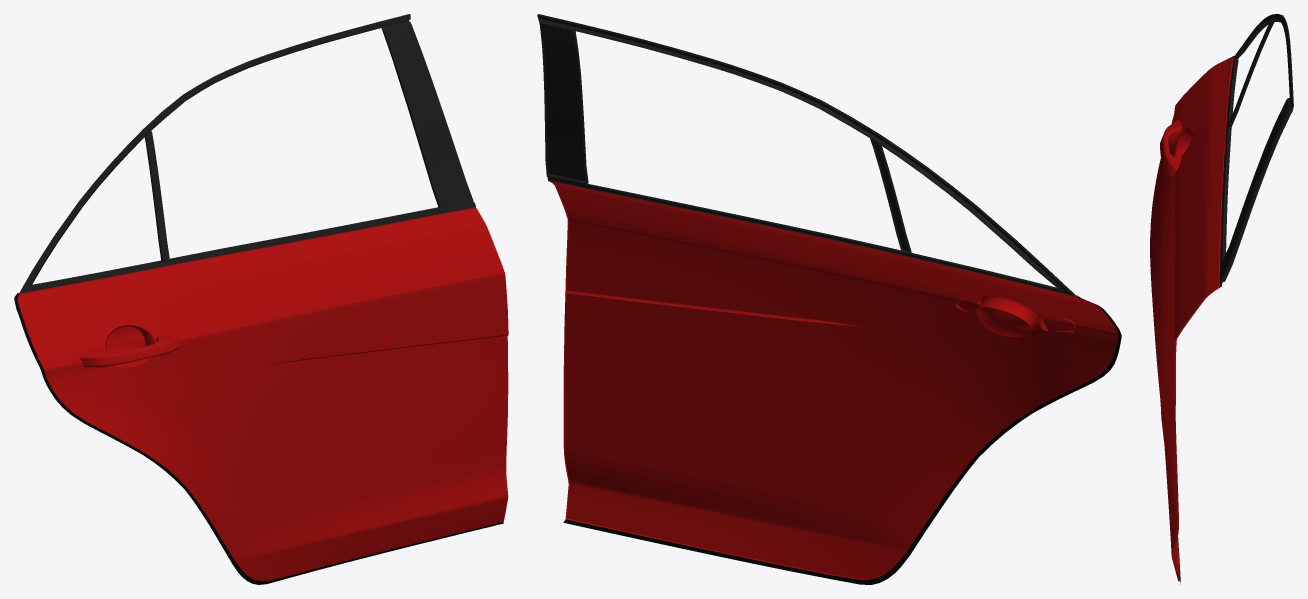
3 renders of one model, left to right at view 1: azimuth 30°, elevation 25°; view 2: azimuth 150°, elevation 25°; view 3: azimuth 270°, elevation 25°, orthographic. The views are drawn at different scales.
Visible parts, largest first — view 1: Y175_18_321B_R_1_DaS_Y175_18_321B_R, Y175_18_321B_R_Y175_18_321B_R_2_D, Y175_18_321B_R_1_DaS_Y175_18_321B_R_E, Y175_18_321B_R_Y175_18_321B_R_3_D; view 2: Y175_18_321B_R_1_DaS_Y175_18_321B_R, Y175_18_321B_R_Y175_18_321B_R_2_D, Y175_18_321B_R_1_DaS_Y175_18_321B_R_E, Y175_18_321B_R_Y175_18_321B_R_3_D; view 3: Y175_18_321B_R_1_DaS_Y175_18_321B_R, Y175_18_321B_R_Y175_18_321B_R_2_D, Y175_18_321B_R_1_DaS_Y175_18_321B_R_E.
Boxes of the visible parts, bbox=[...] form: Y175_18_321B_R_1_DaS_Y175_18_321B_R: bbox=[18, 208, 508, 581]; Y175_18_321B_R_Y175_18_321B_R_2_D: bbox=[19, 14, 475, 293]; Y175_18_321B_R_1_DaS_Y175_18_321B_R_E: bbox=[17, 207, 508, 573]; Y175_18_321B_R_Y175_18_321B_R_3_D: bbox=[14, 293, 503, 584]; Y175_18_321B_R_1_DaS_Y175_18_321B_R: bbox=[553, 182, 1118, 578]; Y175_18_321B_R_Y175_18_321B_R_2_D: bbox=[537, 14, 1075, 296]; Y175_18_321B_R_1_DaS_Y175_18_321B_R_E: bbox=[549, 181, 1118, 579]; Y175_18_321B_R_Y175_18_321B_R_3_D: bbox=[563, 296, 1121, 584]; Y175_18_321B_R_1_DaS_Y175_18_321B_R: bbox=[1150, 57, 1232, 573]; Y175_18_321B_R_Y175_18_321B_R_2_D: bbox=[1219, 14, 1293, 286]; Y175_18_321B_R_1_DaS_Y175_18_321B_R_E: bbox=[1162, 57, 1233, 581].
Bounding box in the file's own units: 118 × 114 × 32.25.
